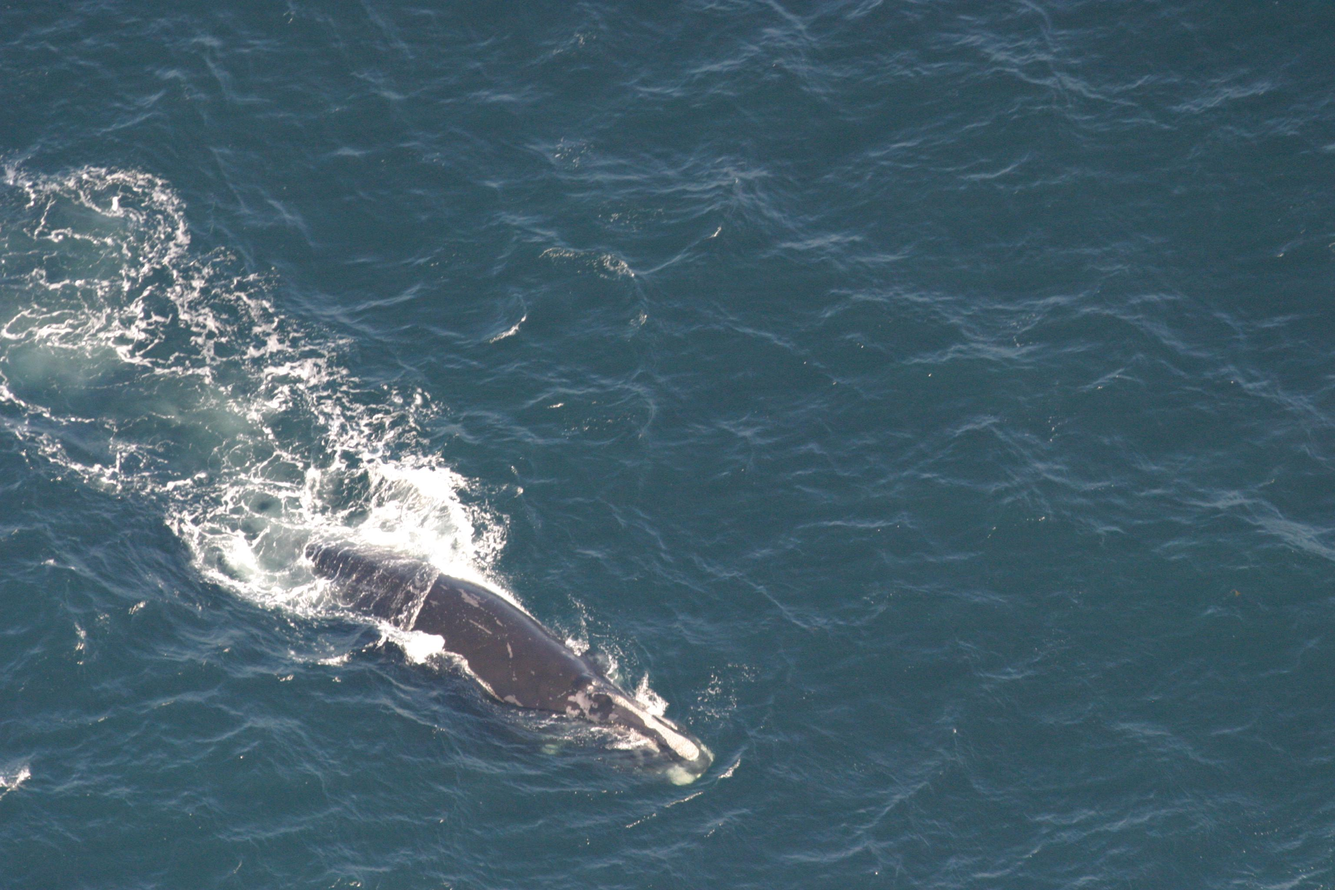whale: (244, 514, 726, 792)
